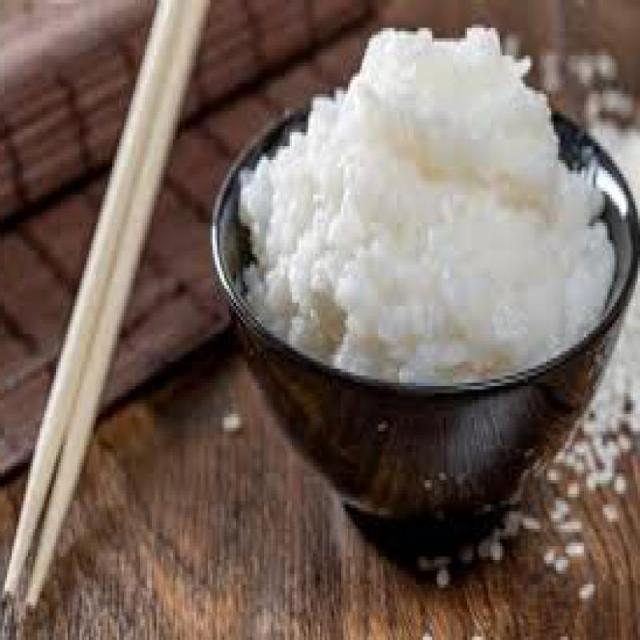nasi_putih: (236, 22, 613, 381)
